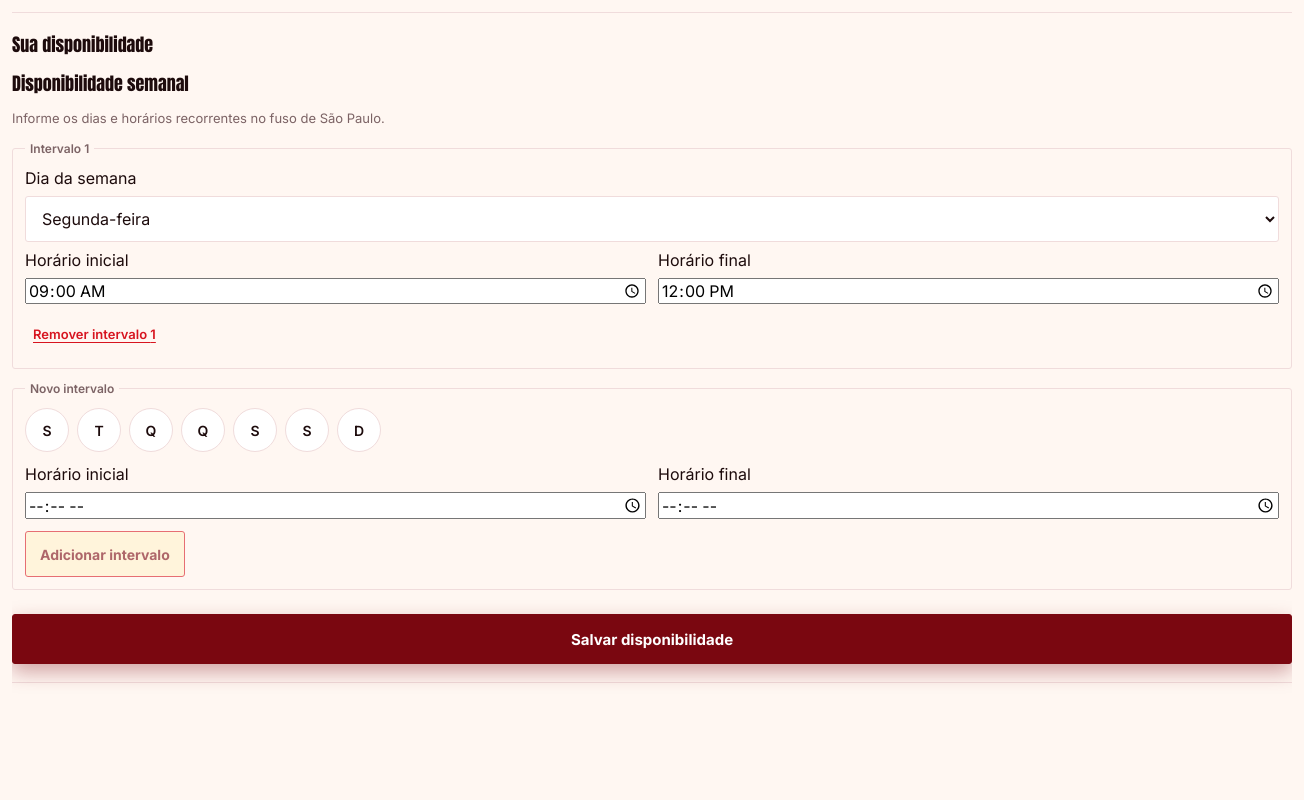
it: AvailabilityManager › loads and saves edits to the signed-in participant schedule
Replace the text in the 1st time field labelled "Horário final" with "13:00". click: point(968, 291)
box: [658,278,1279,304]
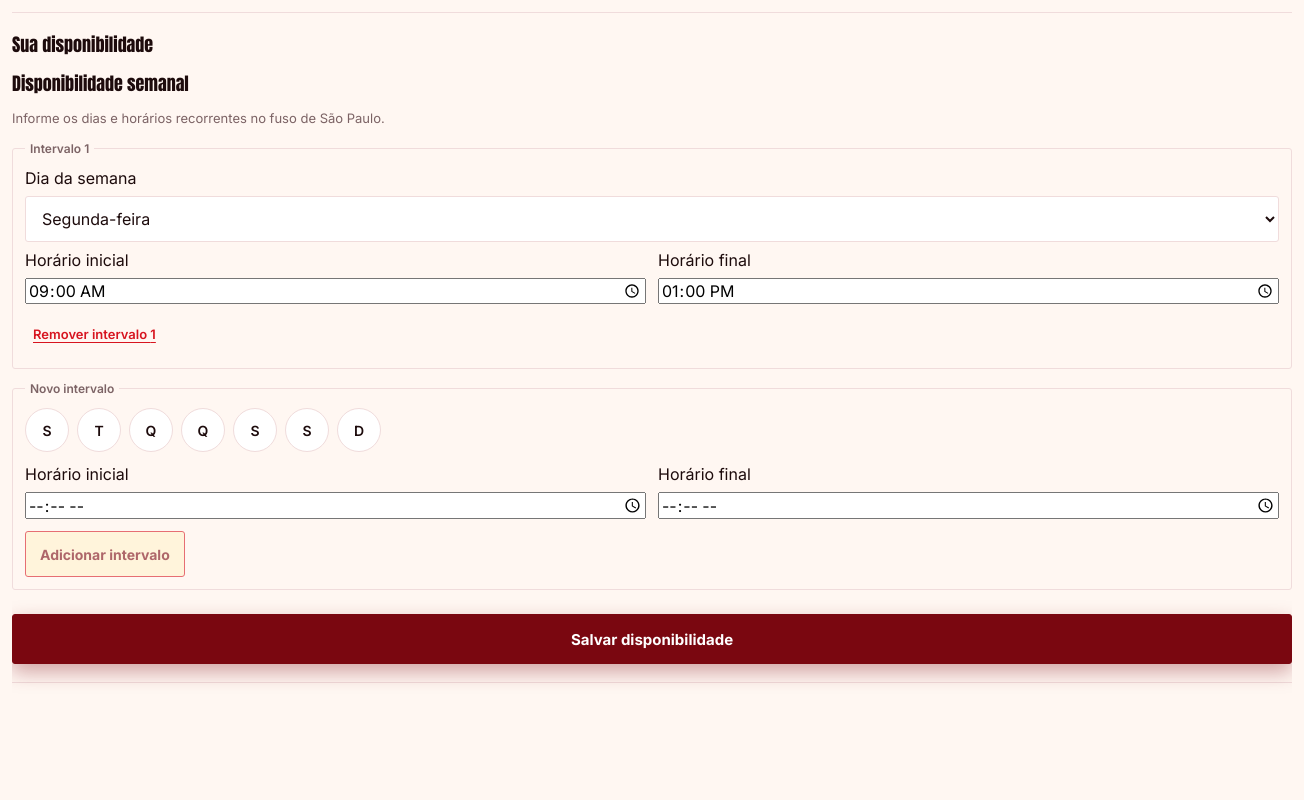
Click the button "Salvar disponibilidade". click: point(652, 639)
box: [12,614,1292,664]
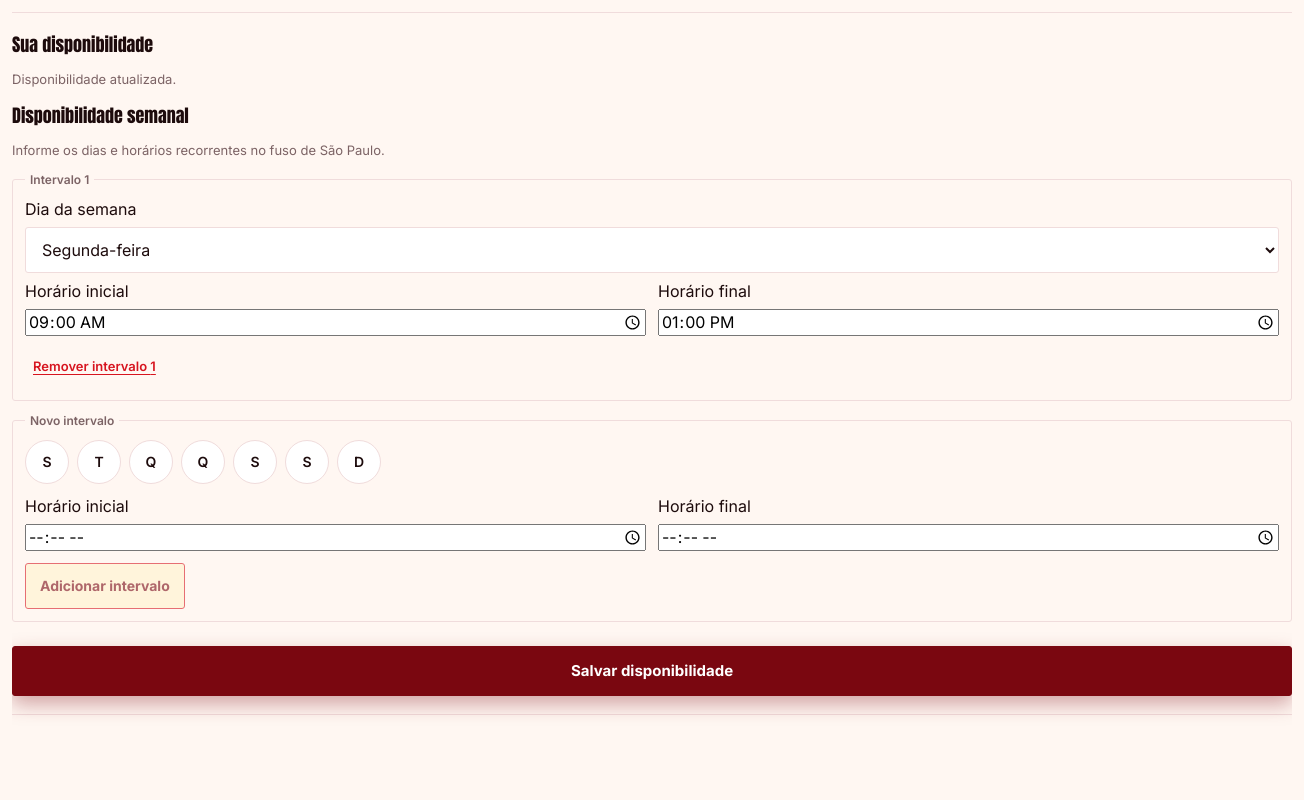
Expected: the text "Disponibilidade atualizada." is shown, [12,71,176,87]
